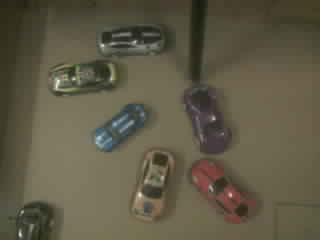Car: (192, 159, 253, 222), (183, 84, 230, 151), (132, 148, 174, 220), (94, 105, 147, 151), (49, 60, 117, 95), (97, 24, 165, 55), (18, 202, 52, 239)
